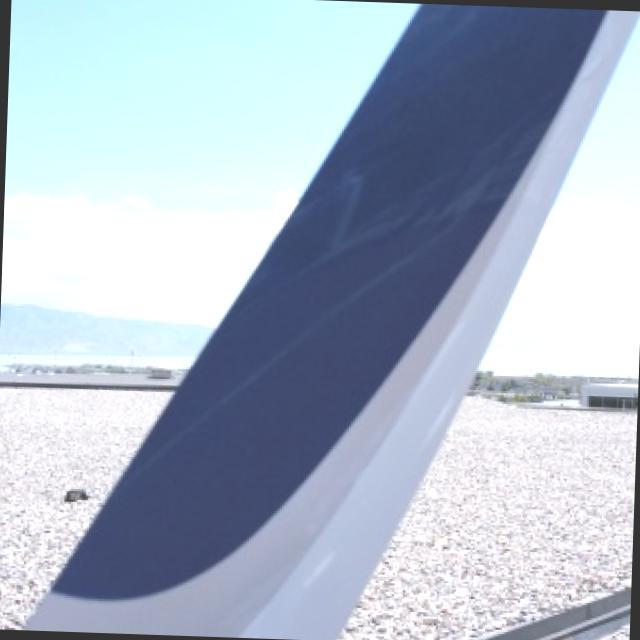healthy: (30, 4, 640, 639)
